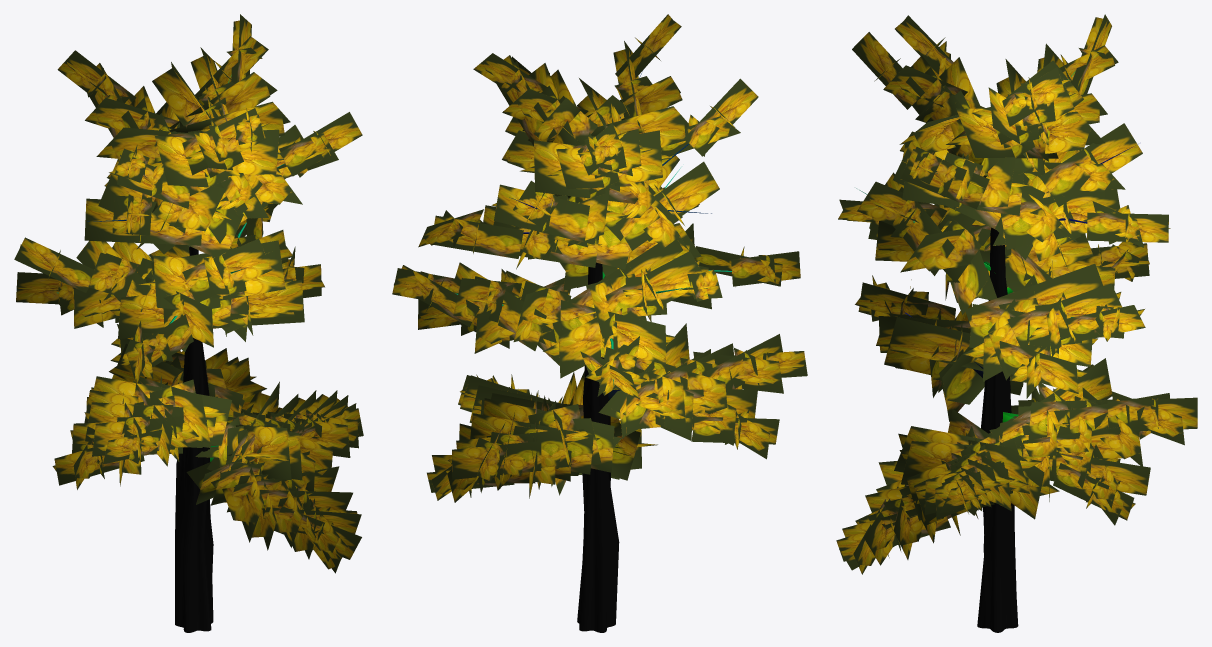
Rendered from arvore_folha_amarela_variante_4.fbx.
3 views of the same model, side by side, from view 1: azimuth 30°, elevation 25°; view 2: azimuth 150°, elevation 25°; view 3: azimuth 270°, elevation 25° (orthographic). The views are drawn at different scales.
Parts seen in each view (by area): view 1: branch07_1, bark01_0; view 2: branch07_1, bark01_0; view 3: branch07_1, bark01_0.
Boxes of the visible parts, bbox=[...] form: branch07_1: bbox=[14, 14, 363, 573]; bark01_0: bbox=[57, 75, 284, 632]; branch07_1: bbox=[392, 14, 807, 502]; bark01_0: bbox=[455, 69, 731, 632]; branch07_1: bbox=[836, 14, 1197, 574]; bark01_0: bbox=[856, 71, 1137, 632].
Size of the model in its own units: 467 by 840 by 463.
